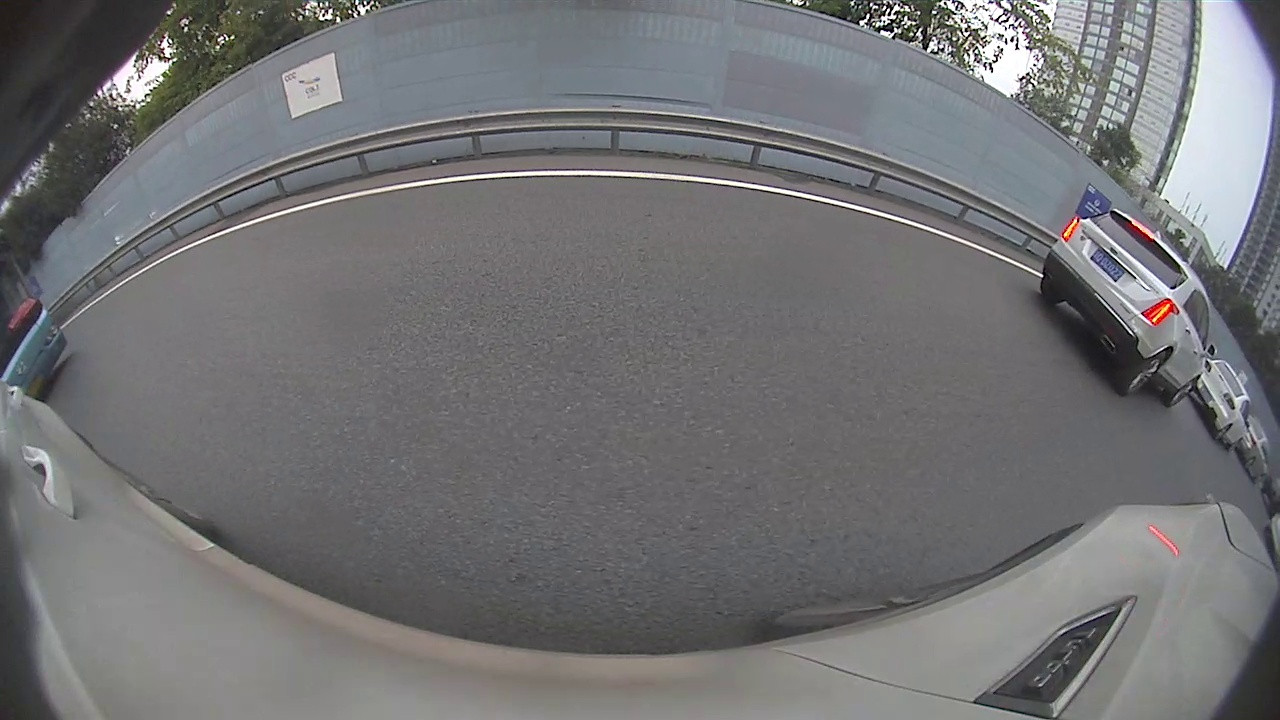bus: (3, 212, 76, 399)
car: (1039, 209, 1210, 405), (1197, 361, 1250, 448)
front: (1164, 376, 1202, 408)
rear: (1116, 349, 1171, 398), (1213, 421, 1232, 443)
